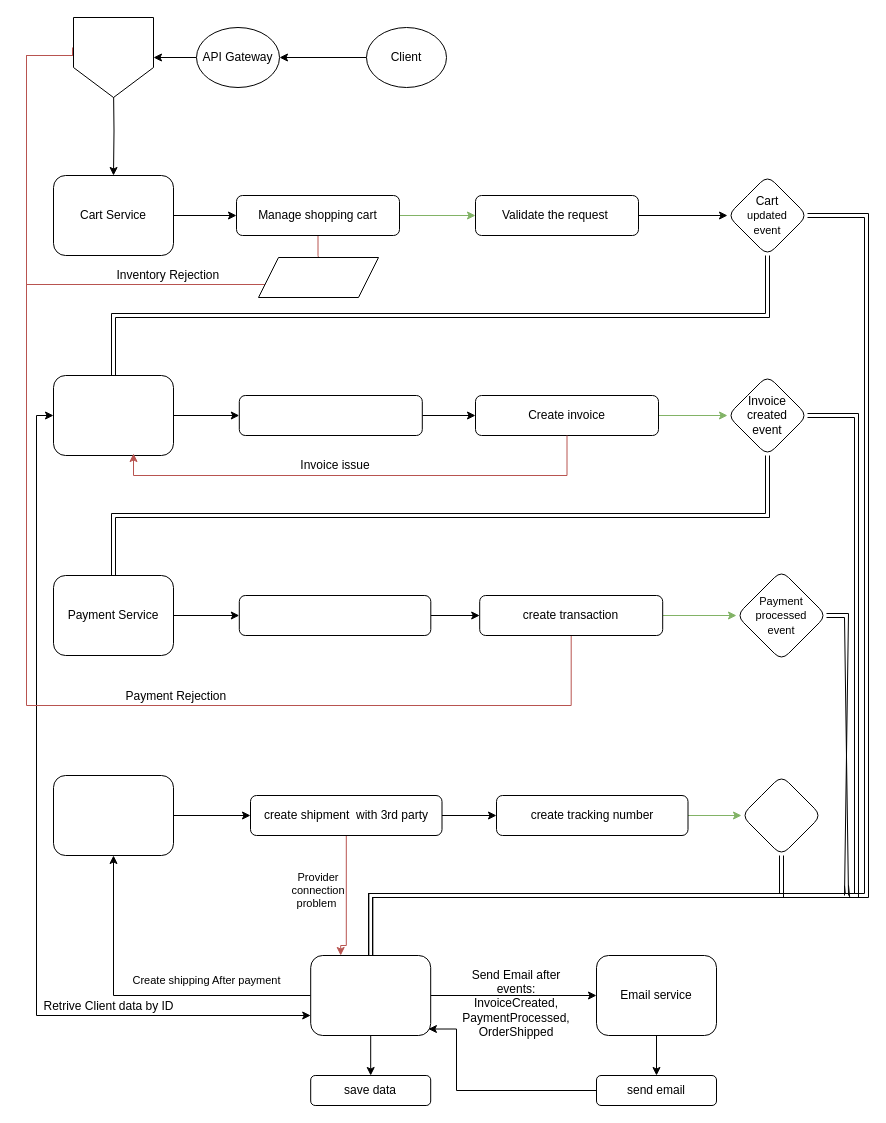
Some shapes in this 886 by 1123 pixel diagram are drawn without their labels. The box of each missing label's shape, as (x1, y1, x2, y2) in pixels:
bill with 3rd party billing p rovider: (238, 594, 431, 636)
Billing Service: (52, 374, 174, 456)
Calculate shopping cart amount: (238, 394, 422, 436)
Check inventory: (258, 256, 378, 298)
Client data service: (310, 954, 431, 1036)
Order process: (72, 16, 154, 98)
Order shipped event: (740, 774, 822, 856)
Shipping Service: (52, 774, 174, 856)
